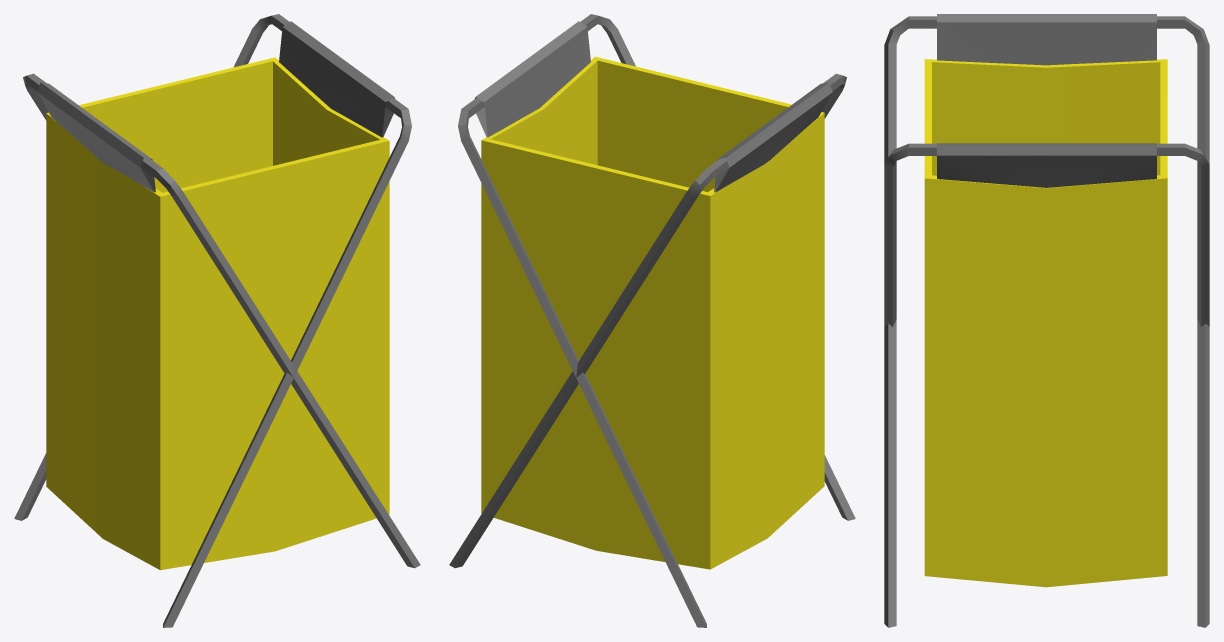
Rendered from CestaRopa.fbx.
3 renders of one model, left to right at view 1: azimuth 30°, elevation 25°; view 2: azimuth 150°, elevation 25°; view 3: azimuth 270°, elevation 25°, orthographic. The views are drawn at different scales.
Visible parts, largest first — view 1: CestaRopa; view 2: CestaRopa; view 3: CestaRopa.
Part boxes in pixels (x1,y1,x2,y2): CestaRopa: (14, 14, 420, 627); CestaRopa: (449, 14, 855, 627); CestaRopa: (884, 14, 1209, 627).
Size of the model in its own units: 54.73 by 91.79 by 56.13.
